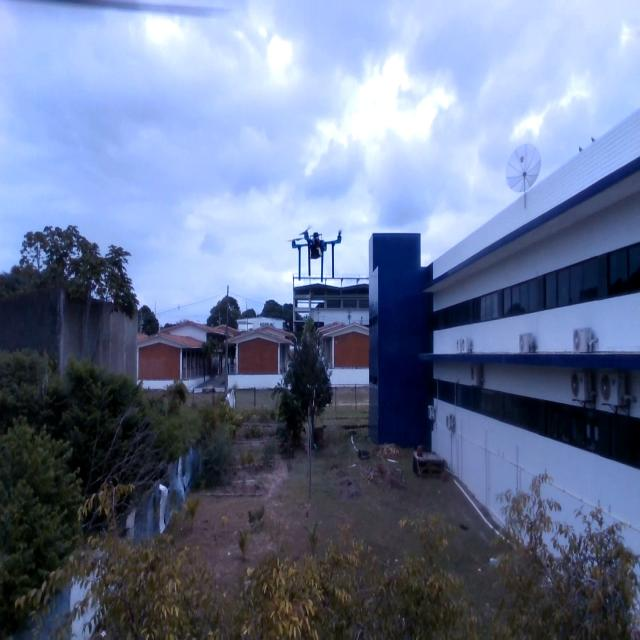-uav-: (282, 224, 342, 293)
